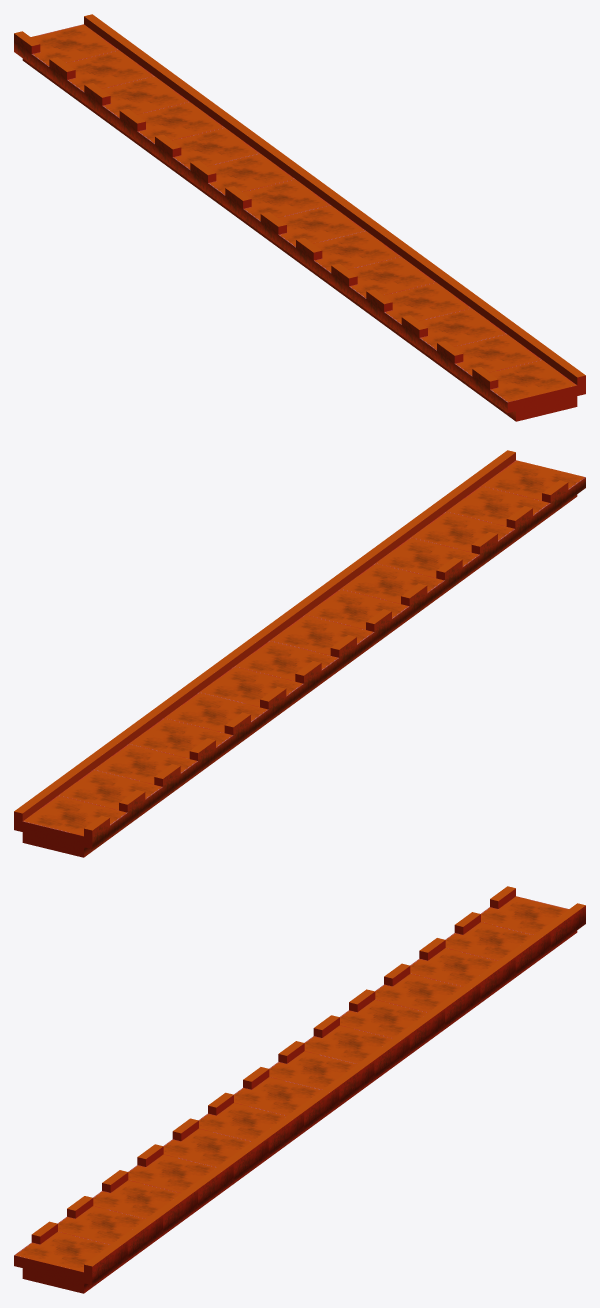
The model's file is Tile3X12.FBX.
The picture shows the model from 3 angles, top to bottom: view 1: azimuth 30°, elevation 25°; view 2: azimuth 150°, elevation 25°; view 3: azimuth 330°, elevation 25°; orthographic projection.
Visible parts, largest first — view 1: Tile012; view 2: Tile012; view 3: Tile012.
Boxes of the visible parts, box(x1,y1,x2,y2) form: Tile012: box(14, 14, 585, 421); Tile012: box(14, 450, 585, 857); Tile012: box(14, 886, 585, 1293).
Bounding box in the file's own units: 7.68 × 2.74 × 83.72.
